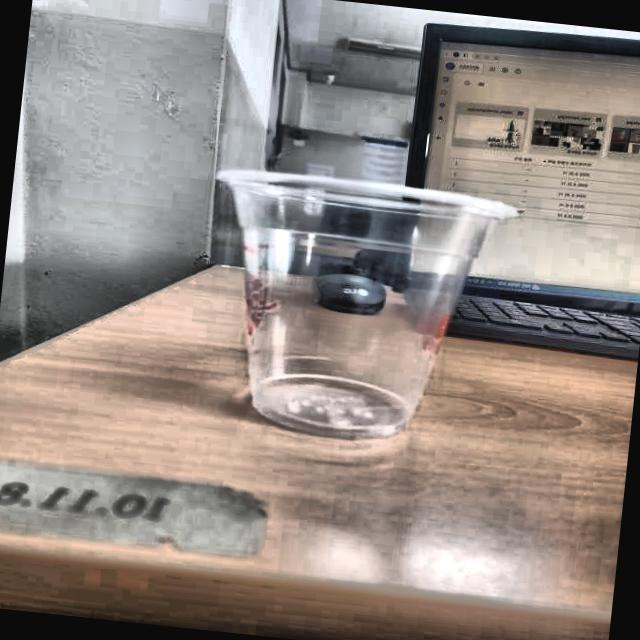plastic cup: (185, 164, 520, 450)
